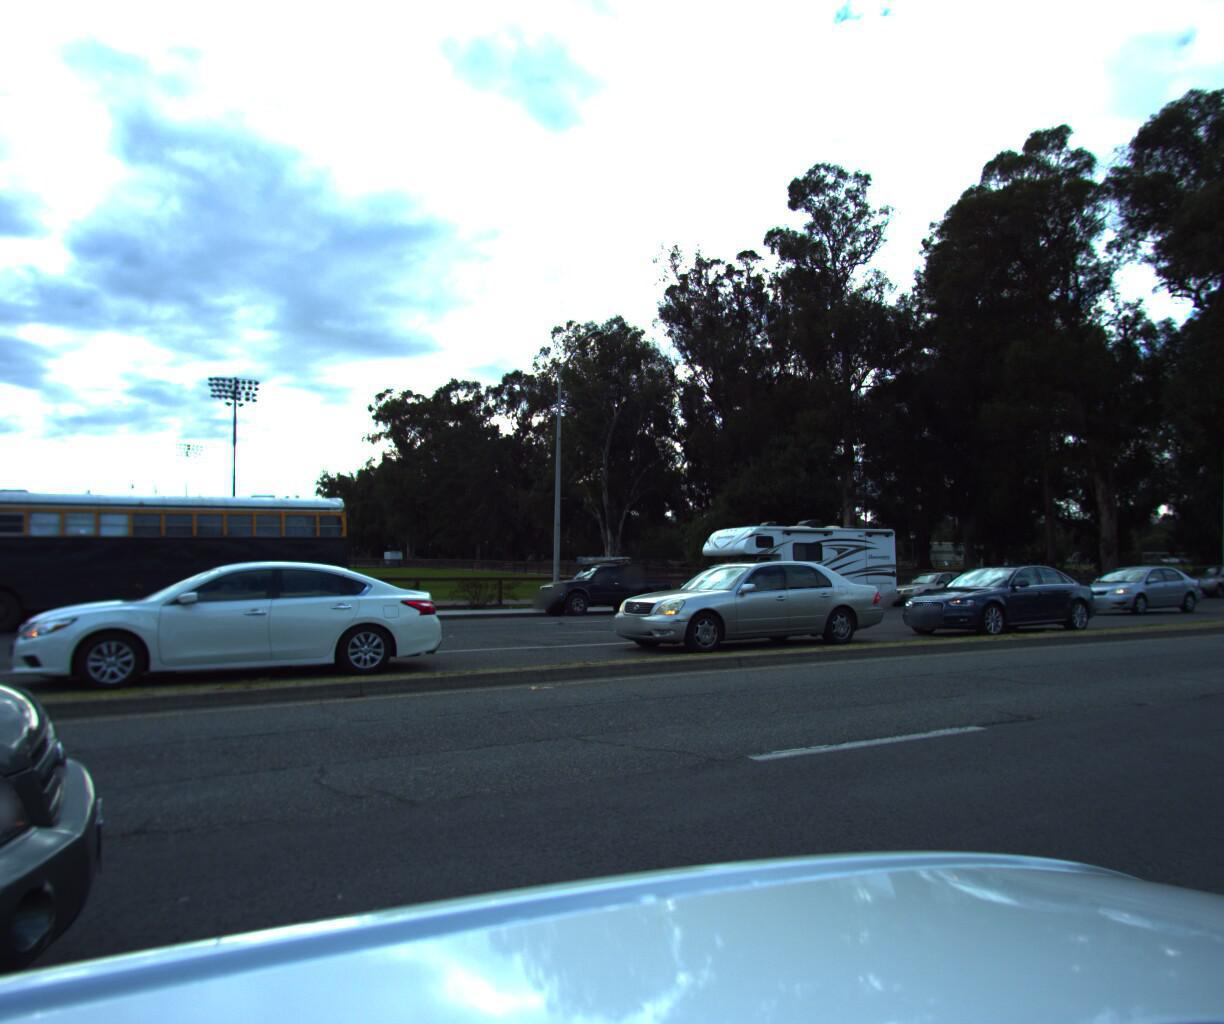car: (597, 558, 895, 663), (883, 558, 1107, 638), (525, 551, 677, 617), (1060, 557, 1212, 611), (874, 566, 990, 605), (1162, 557, 1224, 595), (1222, 565, 1224, 594)
other_vehicle: (679, 509, 901, 614)
